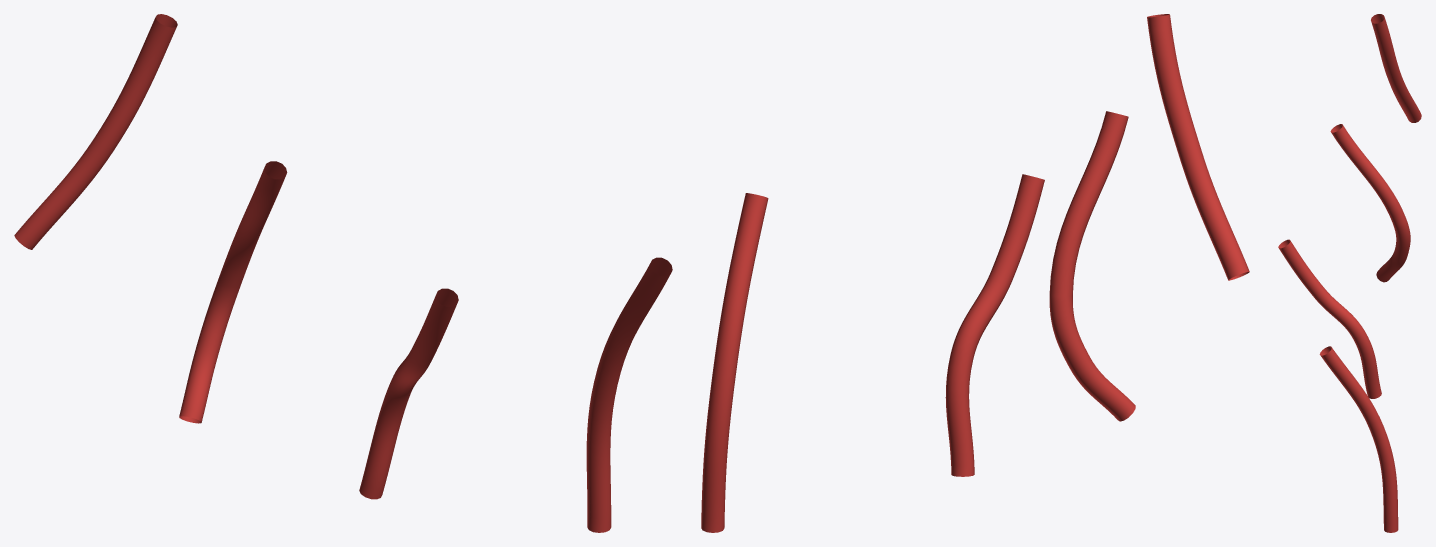
3 views of the same model, side by side, from view 1: azimuth 30°, elevation 25°; view 2: azimuth 150°, elevation 25°; view 3: azimuth 270°, elevation 25° (orthographic). The views are drawn at different scales.
Visible parts, largest first — view 1: 右侧趾足底总动脉; view 2: 右侧趾足底总动脉; view 3: 右侧趾足底总动脉.
Part boxes in pixels (box(x1,y1,x2,y2)): 右侧趾足底总动脉: box(14, 14, 672, 532); 右侧趾足底总动脉: box(701, 14, 1249, 532); 右侧趾足底总动脉: box(1278, 14, 1421, 532).
Size of the model in its own units: 0.0584 by 0.0601 by 0.0205.
